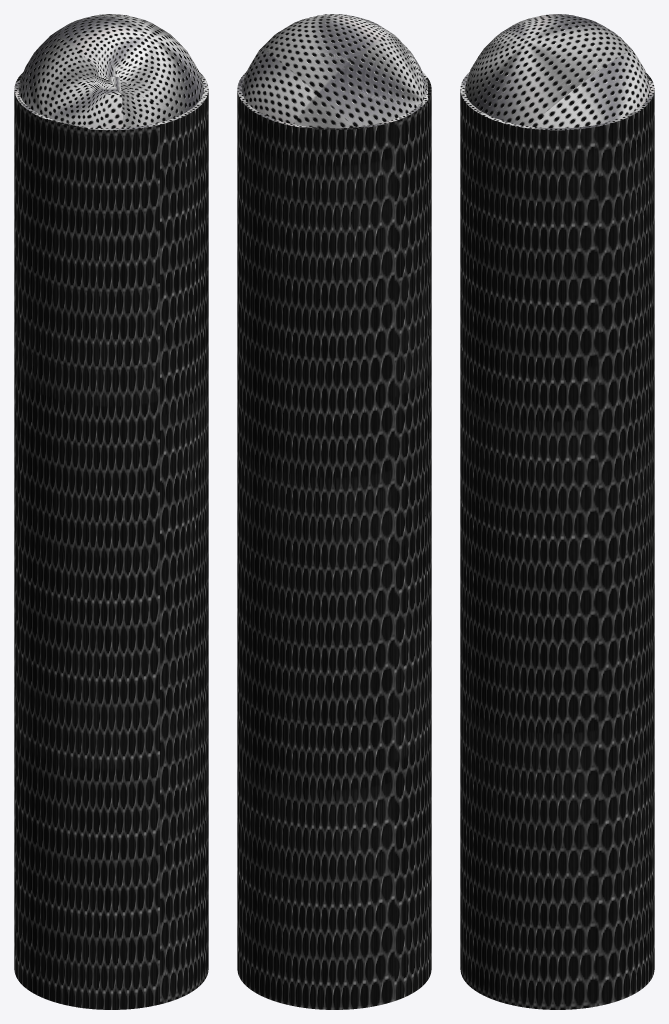
Rendered from tool2.obj.
3 renders of one model, left to right at view 1: azimuth 30°, elevation 25°; view 2: azimuth 150°, elevation 25°; view 3: azimuth 270°, elevation 25°, orthographic.
Parts seen in each view (by area): view 1: Cylinder.001; view 2: Cylinder.001; view 3: Cylinder.001.
Boxes of the visible parts, x1,y1,x2,y2 form: Cylinder.001: [14, 14, 208, 1009]; Cylinder.001: [237, 14, 431, 1009]; Cylinder.001: [460, 14, 654, 1009].
Size of the model in its own units: 1 by 5.38 by 1.
